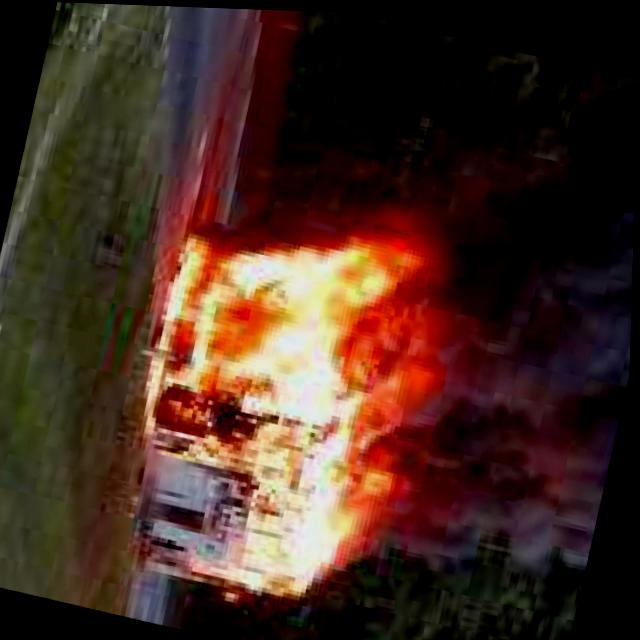smoke: (343, 30, 640, 592)
